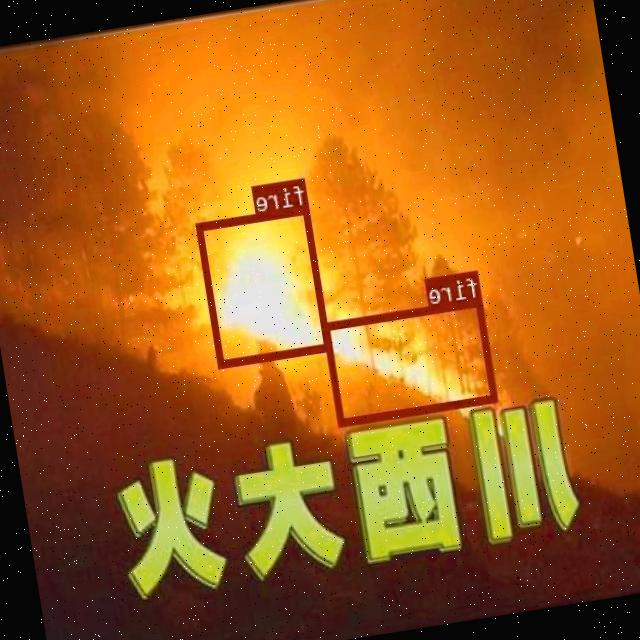fire: (324, 296, 499, 424), (197, 205, 332, 367)
